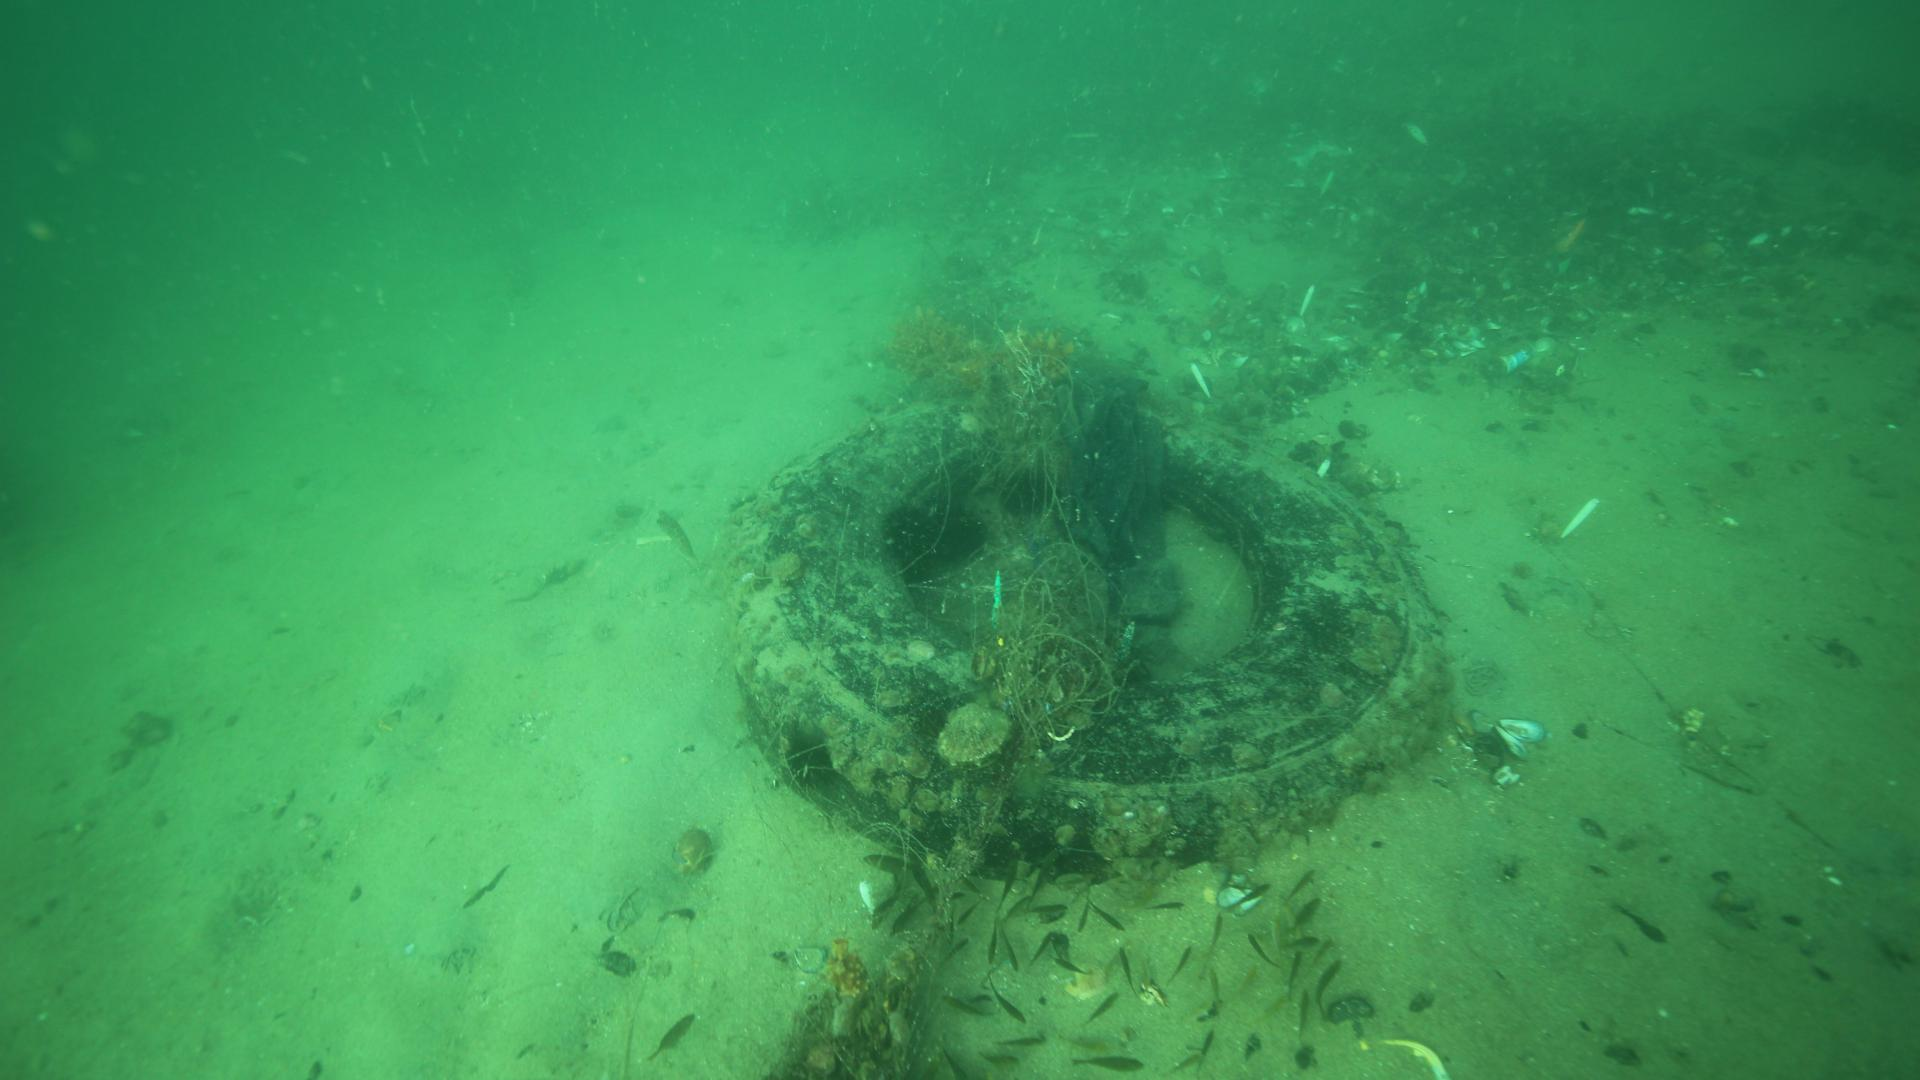tire: (728, 401, 1453, 884)
